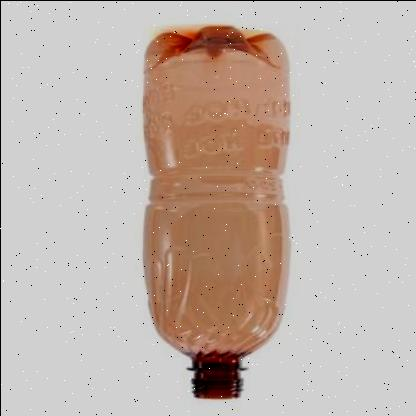Plastic Bottle: (142, 25, 288, 398)
